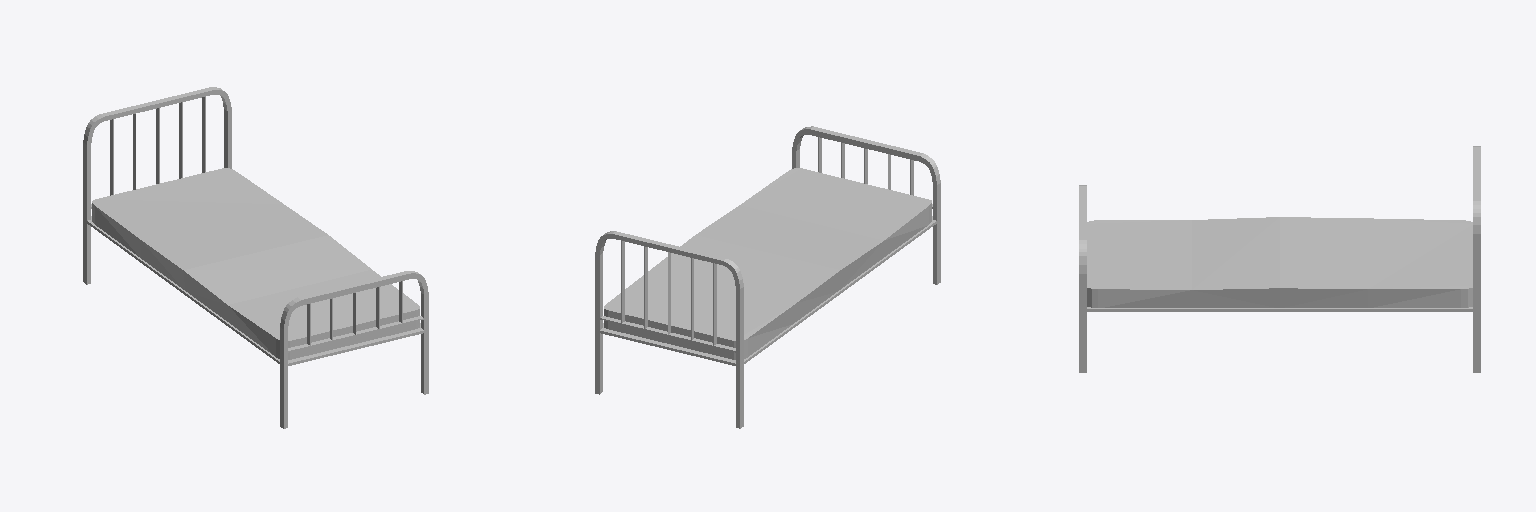
The model's file is Bed01a.obj.
The picture shows the model from 3 angles: view 1: azimuth 30°, elevation 25°; view 2: azimuth 150°, elevation 25°; view 3: azimuth 270°, elevation 25°; orthographic projection.
Visible parts, largest first — view 1: Bed01a_LOD0_Bed01_LOD0.003; view 2: Bed01a_LOD0_Bed01_LOD0.003; view 3: Bed01a_LOD0_Bed01_LOD0.003.
Boxes of the visible parts, <box> form: Bed01a_LOD0_Bed01_LOD0.003: <box>83,87,428,428</box>; Bed01a_LOD0_Bed01_LOD0.003: <box>595,126,940,428</box>; Bed01a_LOD0_Bed01_LOD0.003: <box>1079,146,1480,372</box>.
Size of the model in its own units: 0.8797 by 0.9474 by 2.1.